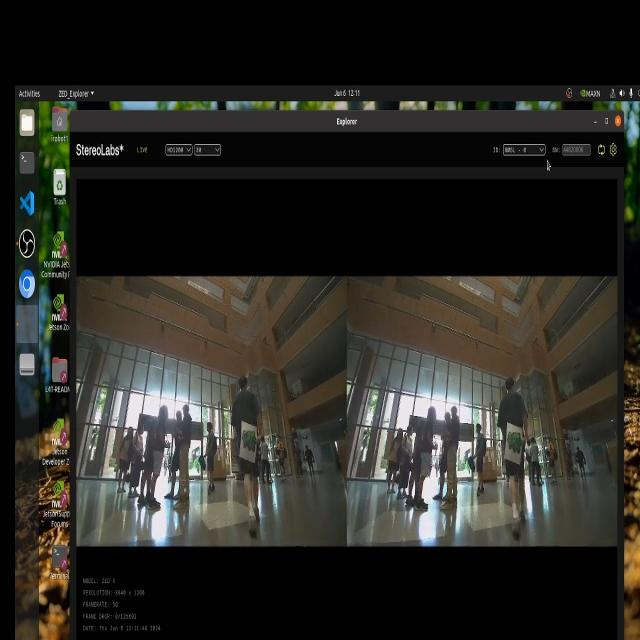green: (238, 422, 256, 464), (501, 432, 524, 457)
